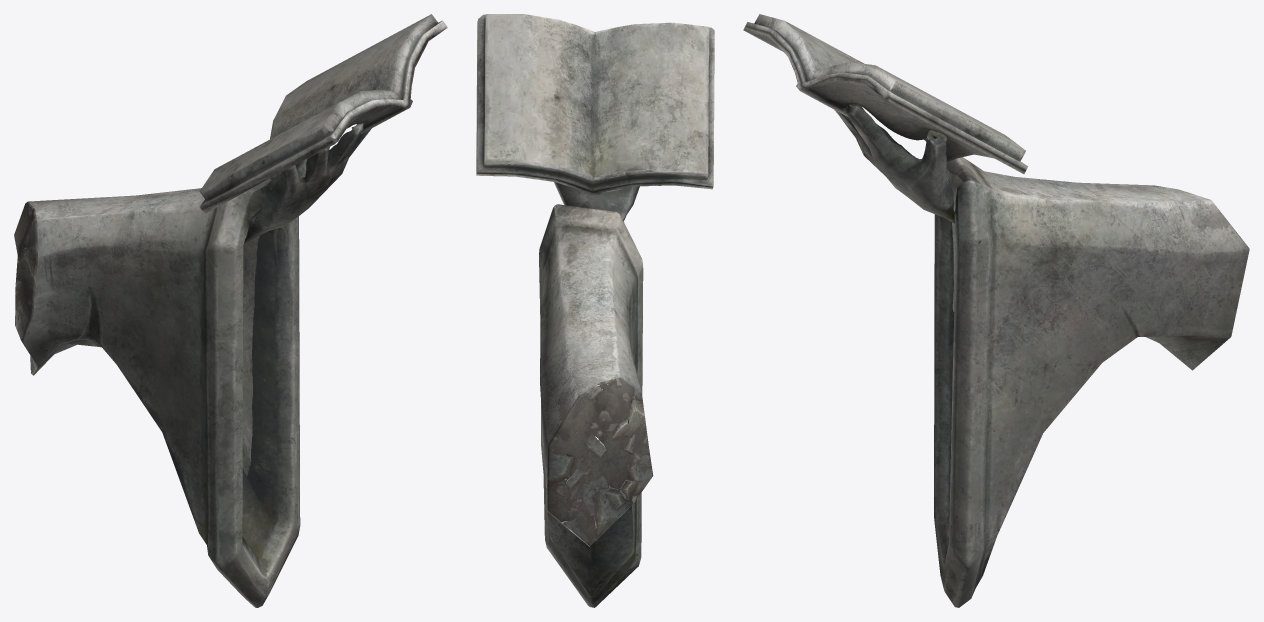
3 renders of one model, left to right at view 1: azimuth 30°, elevation 25°; view 2: azimuth 150°, elevation 25°; view 3: azimuth 270°, elevation 25°, orthographic. The views are drawn at different scales.
Visible parts, largest first — view 1: SM_SaradominTemple_Statue_01v8_LOD0; view 2: SM_SaradominTemple_Statue_01v8_LOD0; view 3: SM_SaradominTemple_Statue_01v8_LOD0.
Boxes of the visible parts, x1,y1,x2,y2 form: SM_SaradominTemple_Statue_01v8_LOD0: (14,14,447,607); SM_SaradominTemple_Statue_01v8_LOD0: (476,14,714,607); SM_SaradominTemple_Statue_01v8_LOD0: (743,14,1249,607).
Size of the model in its own units: 3.42 by 6.18 by 4.73.
2 materials, 2 textured.
